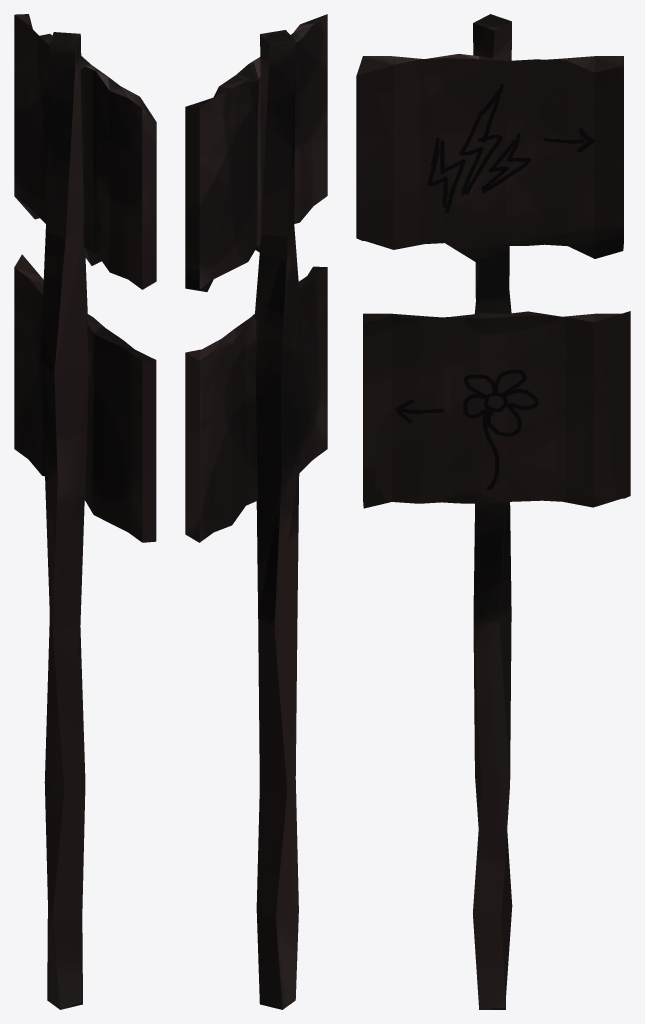
Rendered from Sign.fbx.
3 renders of one model, left to right at view 1: azimuth 30°, elevation 25°; view 2: azimuth 150°, elevation 25°; view 3: azimuth 270°, elevation 25°, orthographic.
Visible parts, largest first — view 1: Sign.001; view 2: Sign.001; view 3: Sign.001.
Part boxes in pixels (x1,y1,x2,y2): Sign.001: [14, 14, 156, 1009]; Sign.001: [185, 14, 327, 1009]; Sign.001: [356, 14, 630, 1009].
Size of the model in its own units: 590 by 11604 by 2937.
1 material, 1 textured.
